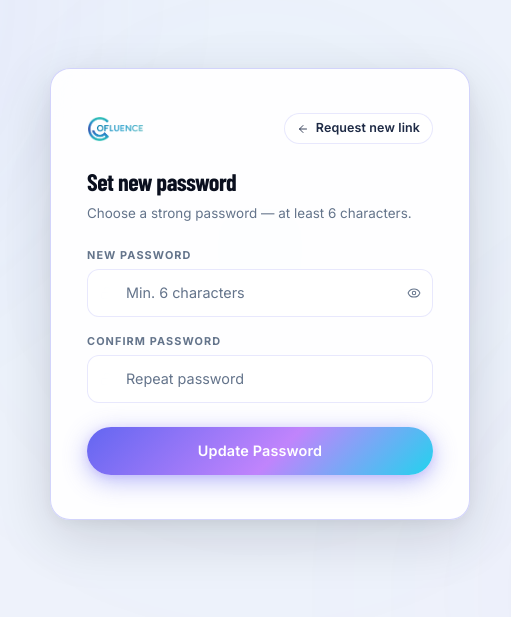
Test: ResetPassword › shows API error message on failure
The image size is (511, 617).
In the password field with id "reset-pw": (260,293) [87, 270, 433, 317], type "newpass1"
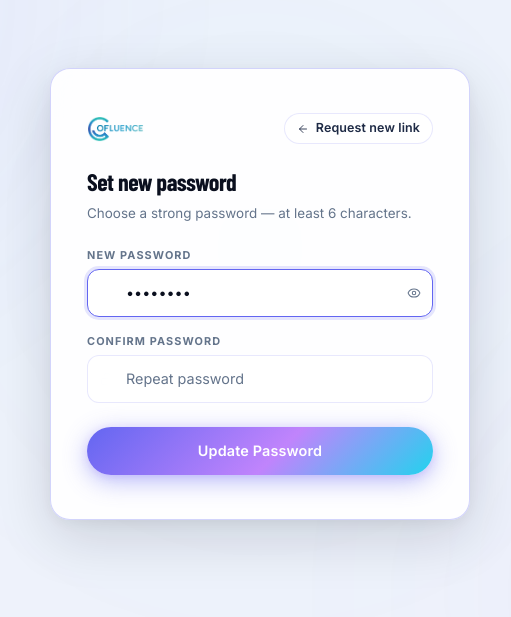
In the password field with id "reset-confirm": (260,379) [87, 355, 433, 403], type "newpass1"
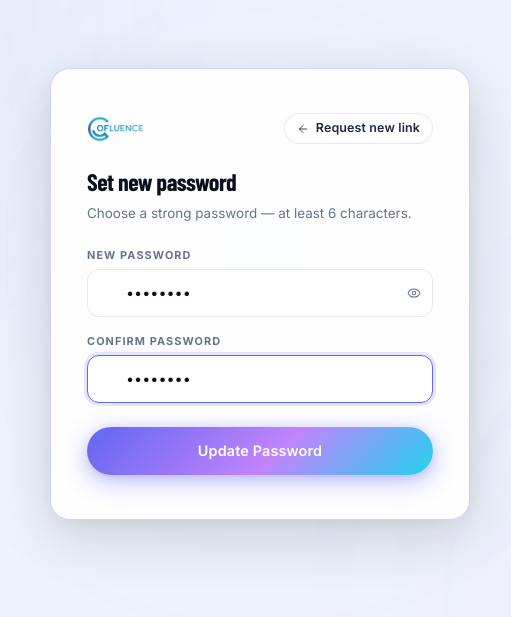
Click the button "Update Password": (260,451) [87, 427, 433, 474]
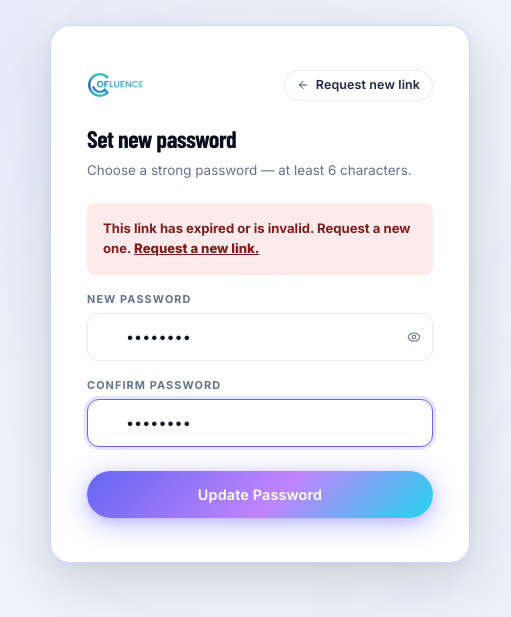
Check: the text "expired or is invalid" is shown, box [103, 220, 410, 256]
